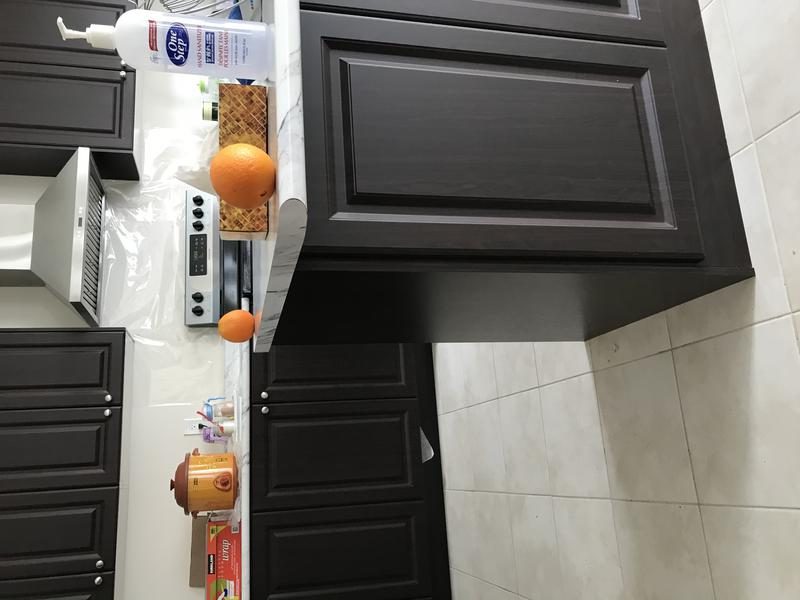orange: (203, 140, 285, 205), (214, 306, 259, 347)
